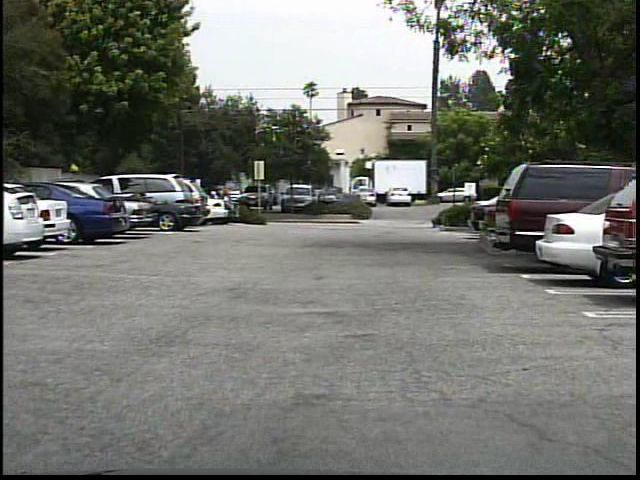person: (206, 186, 224, 220), (220, 192, 235, 221), (216, 190, 228, 219)
